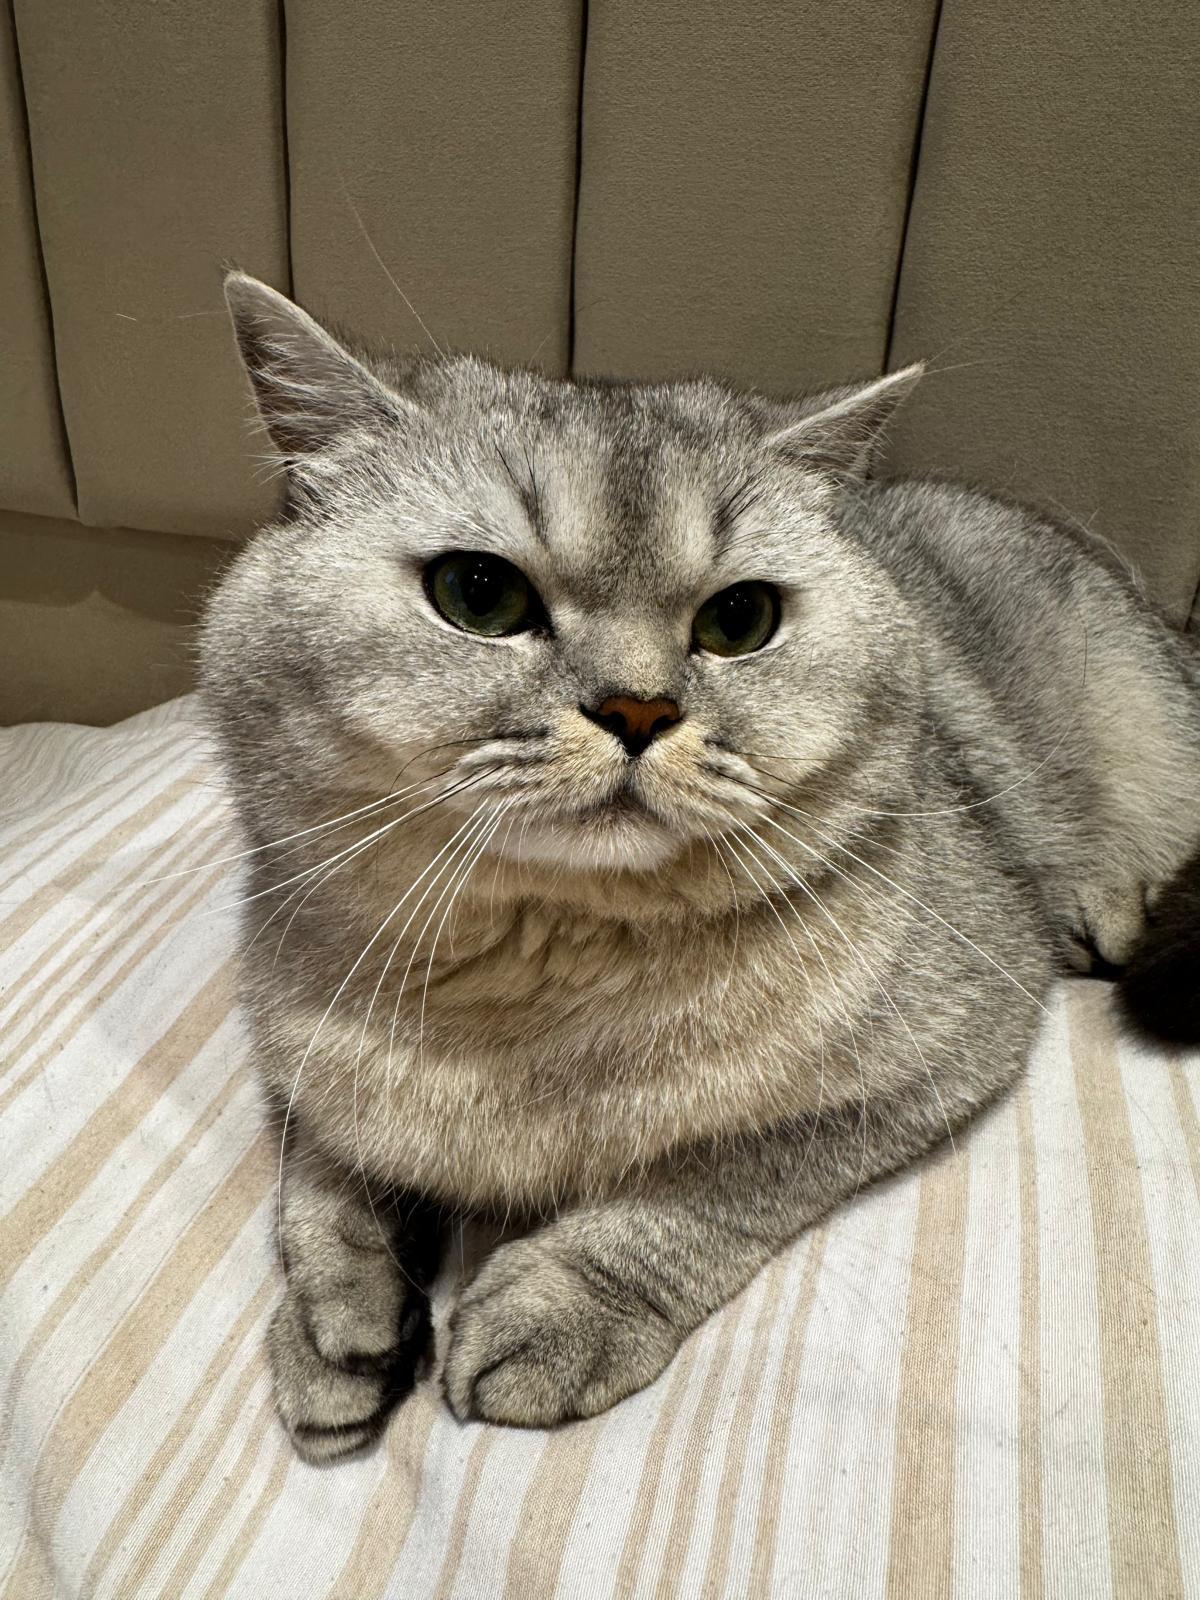kedo: (193, 266, 1200, 1459)
